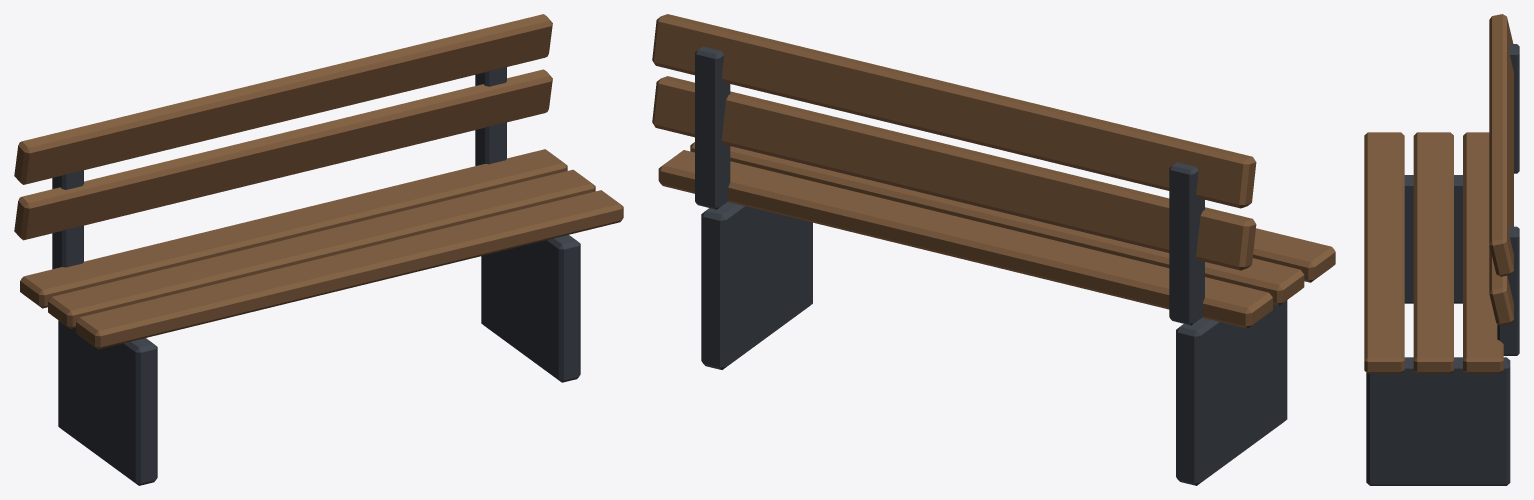
Rendered from Bench.glb.
3 views of the same model, side by side, from view 1: azimuth 30°, elevation 25°; view 2: azimuth 150°, elevation 25°; view 3: azimuth 270°, elevation 25° (orthographic). The views are drawn at different scales.
Visible parts, largest first — view 1: Bench; view 2: Bench; view 3: Bench.
Part boxes in pixels (bbox=[...]): Bench: bbox=[14, 14, 623, 485]; Bench: bbox=[652, 14, 1335, 485]; Bench: bbox=[1364, 14, 1519, 485].
Size of the model in its own units: 6 by 3.25 by 1.73.
Materials: 1 (1 with a texture image).
